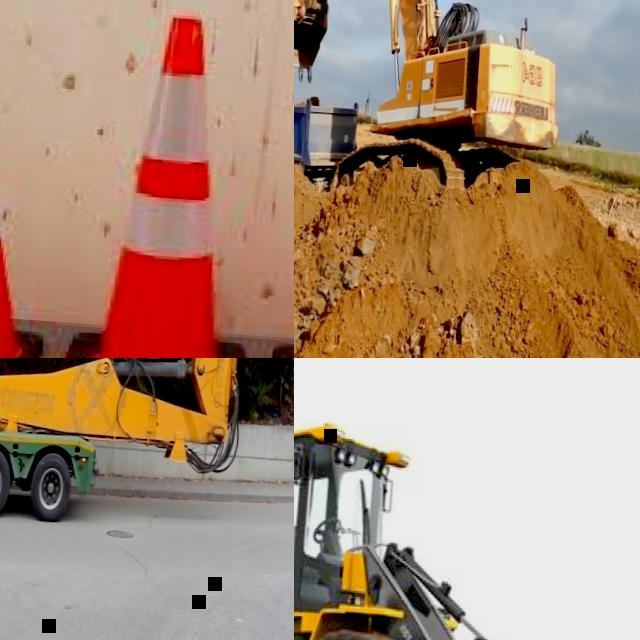Safety Cone: (45, 0, 287, 358), (0, 111, 51, 358)
machinery: (294, 410, 640, 640), (294, 0, 578, 202), (0, 358, 257, 474), (294, 77, 361, 187)
